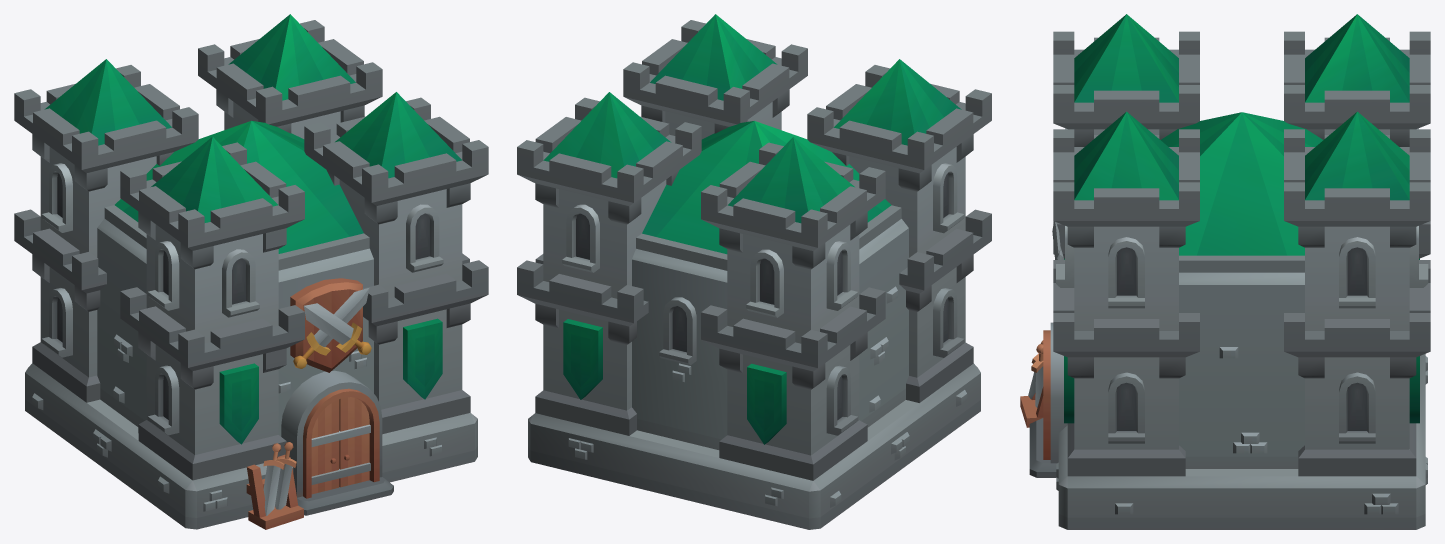
The model's file is kay-quartel-verde.gltf.
3 views of the same model, side by side, from view 1: azimuth 30°, elevation 25°; view 2: azimuth 150°, elevation 25°; view 3: azimuth 270°, elevation 25° (orthographic). The views are drawn at different scales.
Parts seen in each view (by area): view 1: building_barracks_green; view 2: building_barracks_green; view 3: building_barracks_green.
Part boxes in pixels (<box>): building_barracks_green: <box>14,14,488,529</box>; building_barracks_green: <box>517,14,991,529</box>; building_barracks_green: <box>1020,14,1430,529</box>.
Bounding box in the file's own units: 7.2 × 8.2 × 7.83.
1 material, 1 textured.
